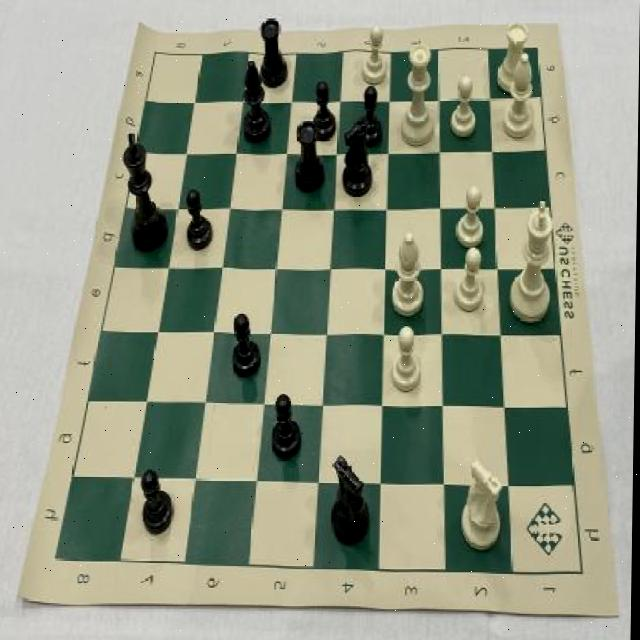bishop: (235, 55, 273, 147)
black-bishop: (118, 123, 174, 256)
black-king: (327, 448, 378, 549), (337, 119, 379, 202)
black-knight: (138, 457, 181, 541), (227, 305, 267, 382), (270, 388, 306, 465), (183, 183, 219, 255), (308, 74, 341, 144), (355, 77, 385, 151)
black-queen: (288, 118, 330, 197), (256, 11, 295, 93)
black-rook: (388, 228, 428, 320), (499, 49, 538, 143)
white-bishop: (505, 195, 559, 328)
white-king: (456, 454, 510, 556)
white-knight: (450, 243, 488, 319), (389, 322, 427, 398), (453, 181, 489, 254), (357, 20, 391, 90), (447, 72, 481, 141)
white-pawn: (398, 37, 438, 150)
white-queen: (494, 15, 532, 96)
